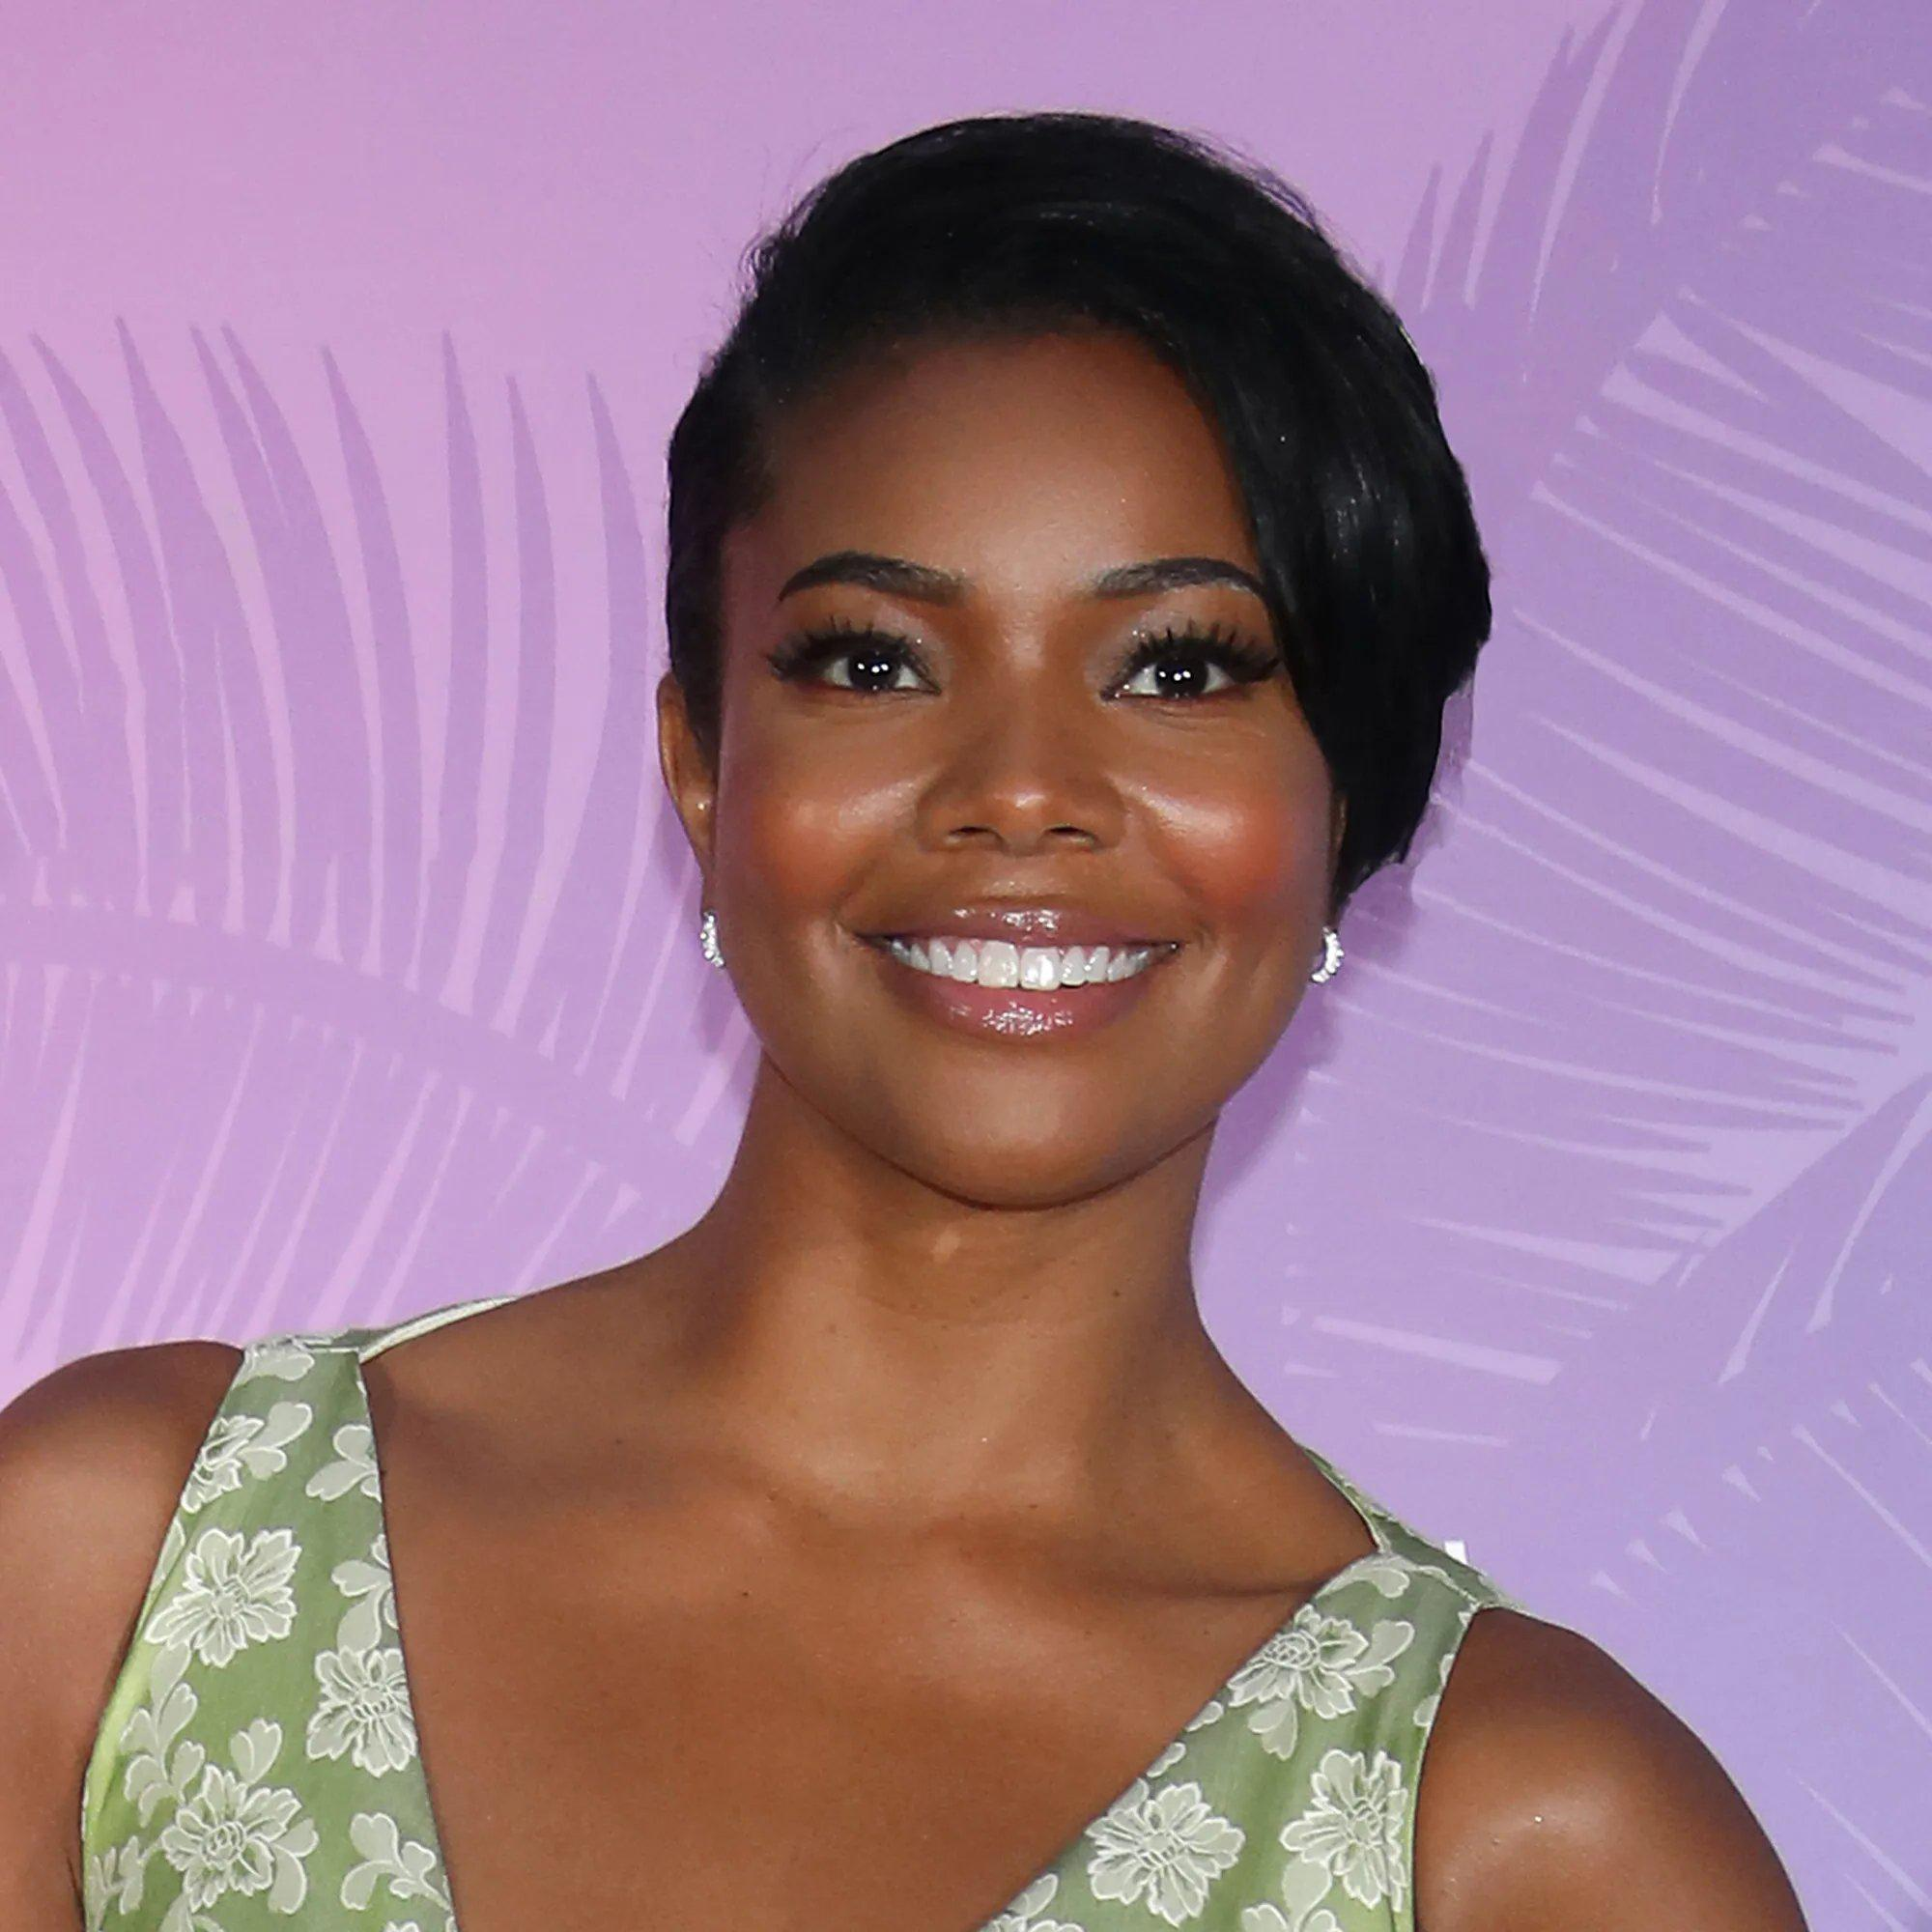Sober: (702, 382, 1339, 1145)
